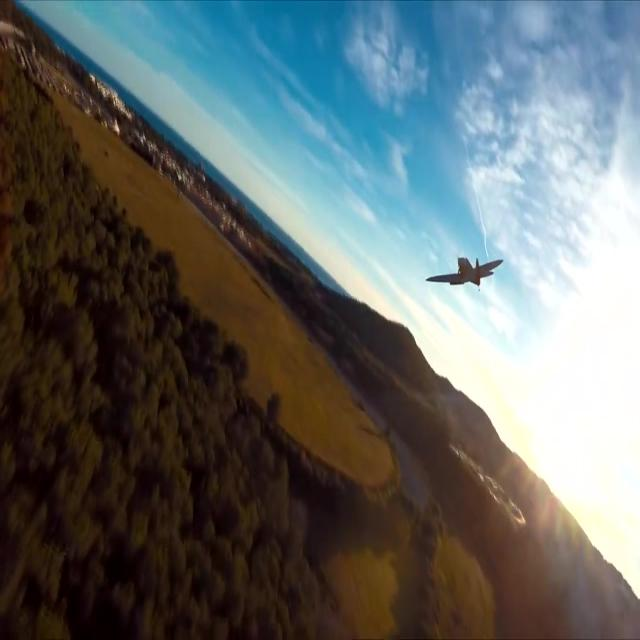iha: (456, 248, 472, 293)
